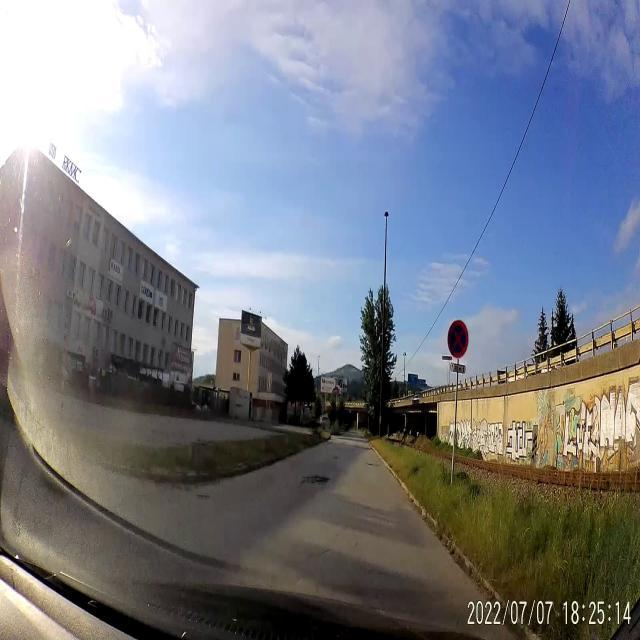Pothole: (298, 468, 334, 492), (195, 488, 212, 504), (366, 459, 381, 472), (332, 454, 340, 462)
